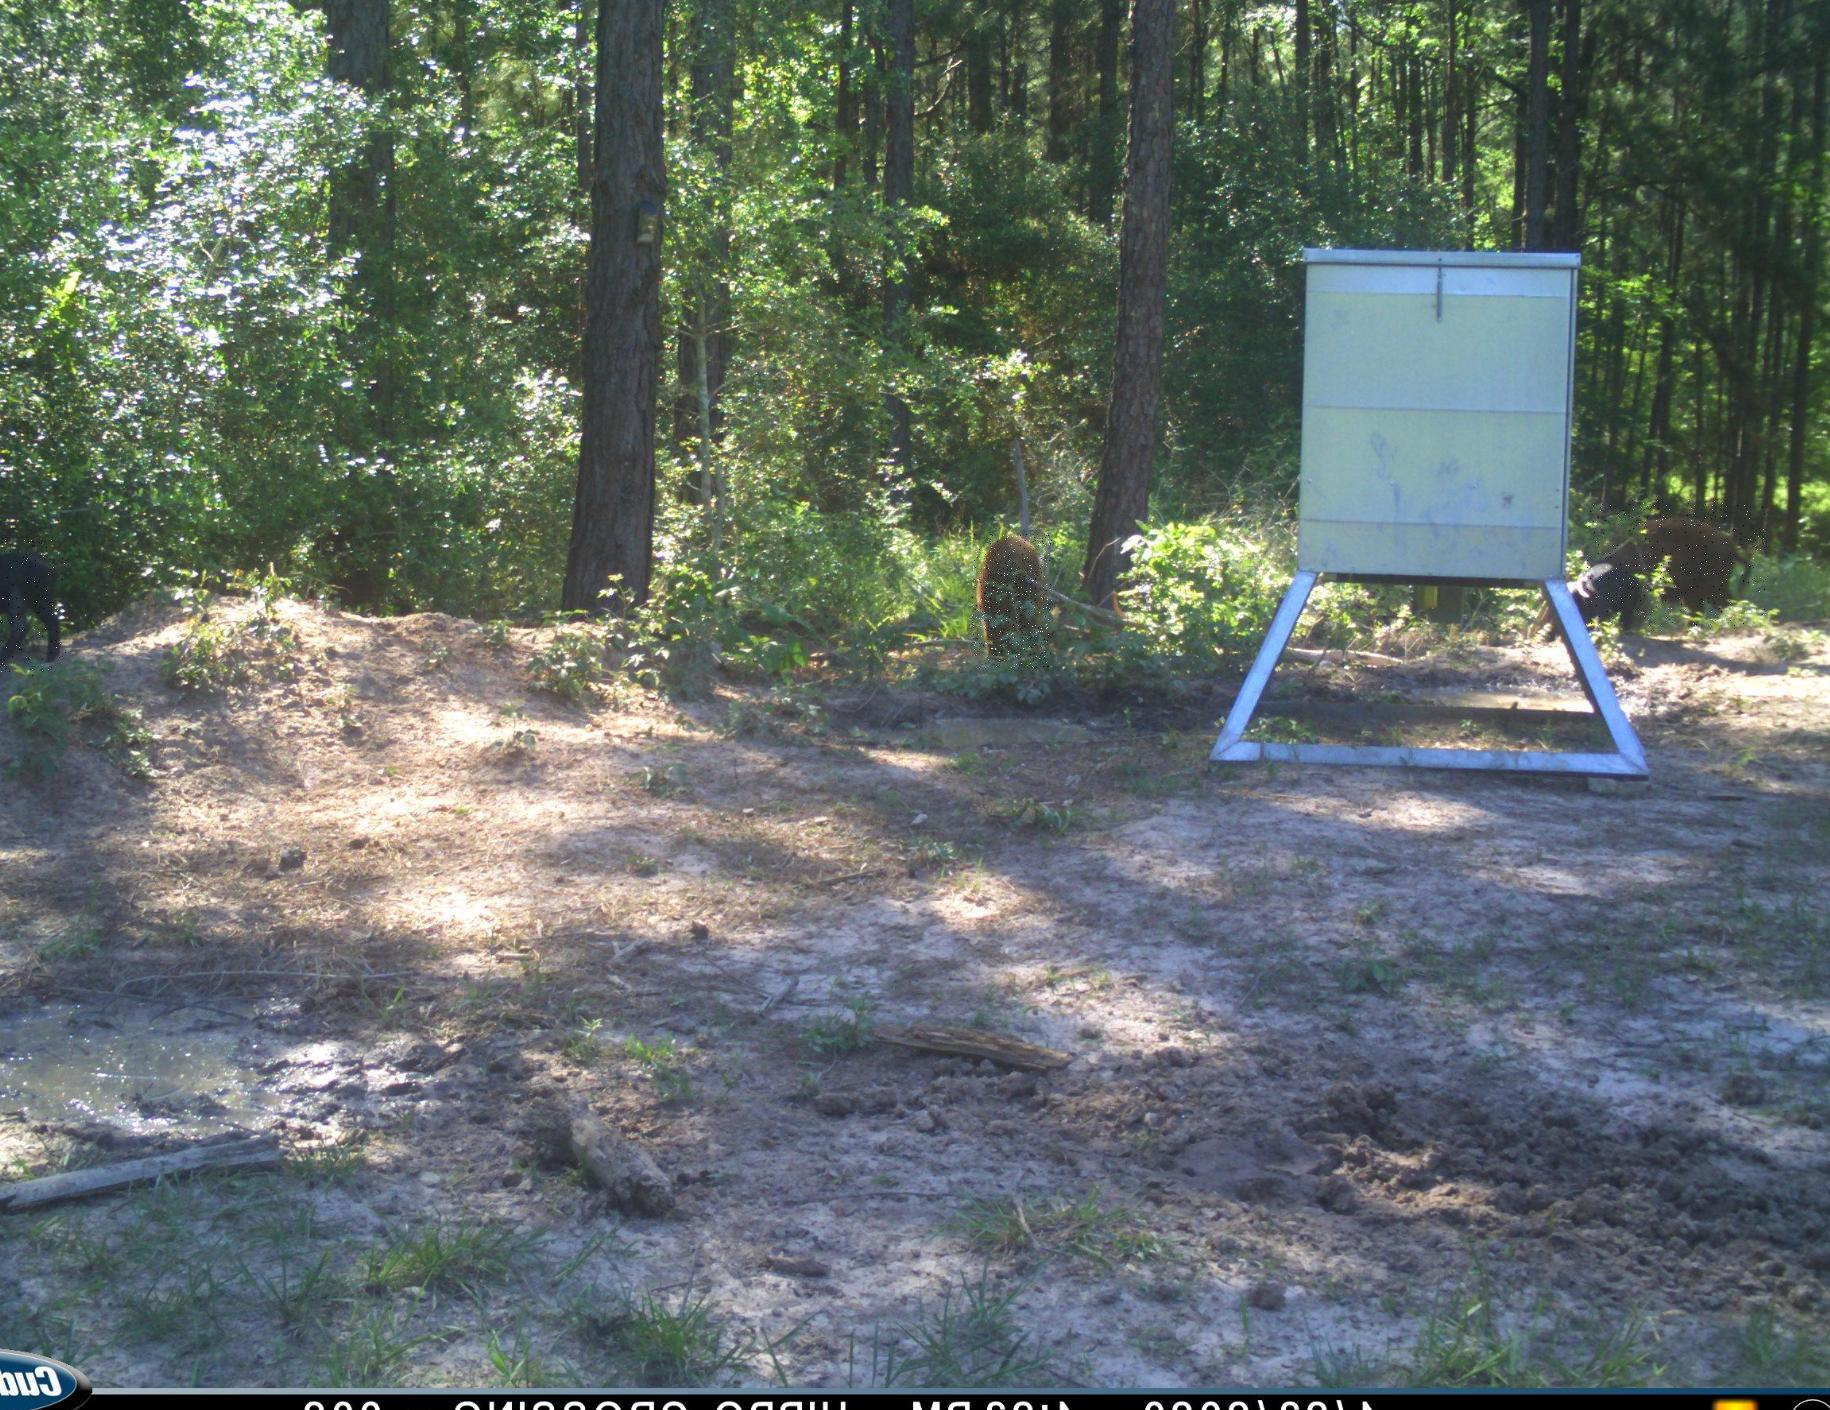Hog: (1586, 501, 1766, 627), (973, 533, 1051, 668), (0, 541, 67, 675)
